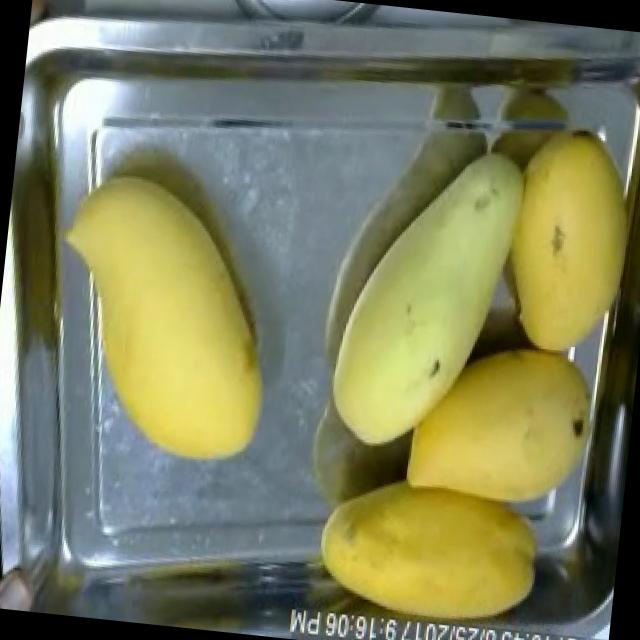fruit: (19, 140, 308, 497), (309, 120, 532, 478), (296, 456, 560, 640), (378, 322, 602, 530), (479, 113, 640, 370)
